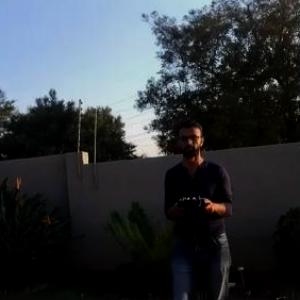follow: (155, 114, 235, 299)
